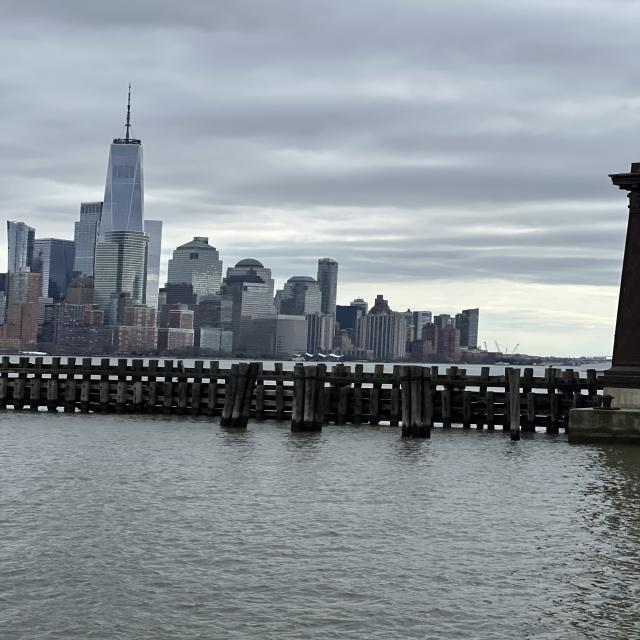WTC: (101, 82, 145, 232)
